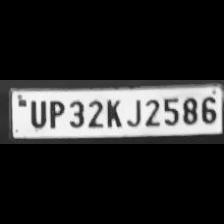2: (86, 97, 104, 129), (142, 96, 160, 127)
3: (65, 96, 84, 128)
5: (159, 94, 179, 125)
6: (198, 94, 218, 124)
8: (180, 94, 198, 126)
J: (124, 96, 142, 127)
K: (102, 96, 122, 128)
P: (46, 97, 64, 128)
U: (26, 97, 46, 128)
